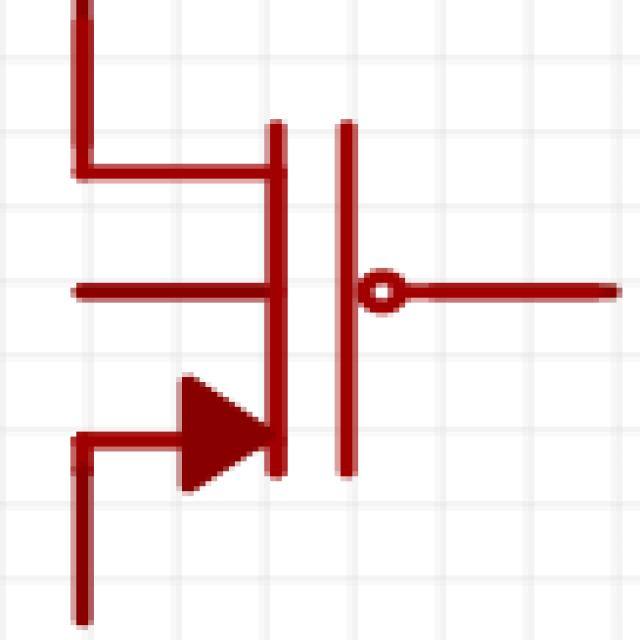pmos: (7, 54, 640, 640)
